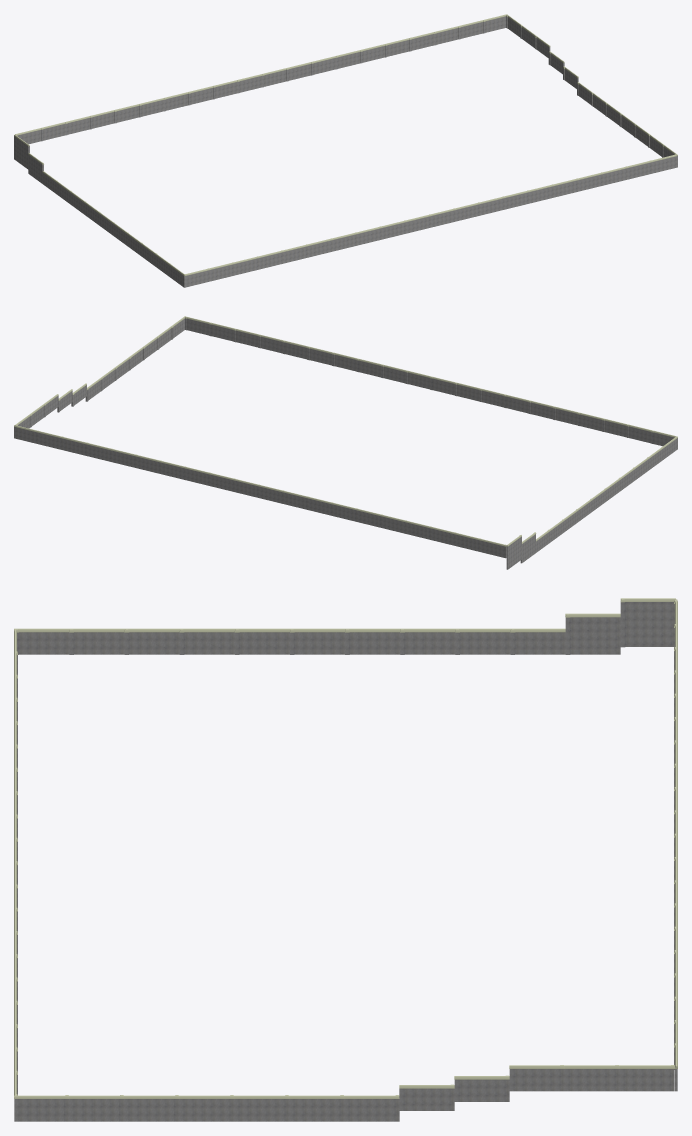
The model's file is SM_XD_weiqiang.FBX.
3 renders of one model, top to bottom at view 1: azimuth 30°, elevation 25°; view 2: azimuth 150°, elevation 25°; view 3: azimuth 270°, elevation 25°, orthographic. The views are drawn at different scales.
Visible parts, largest first — view 1: no part large enough to name; view 2: SM_XD_weiqiang031; view 3: SM_XD_weiqiang031, SM_XD_weiqiang030, SM_XD_weiqiang023, SM_XD_weiqiang029, SM_XD_weiqiang034, SM_XD_weiqiang021, SM_XD_weiqiang022, SM_XD_weiqiang024, SM_XD_weiqiang028, SM_XD_weiqiang032, SM_XD_weiqiang033, SM_XD_weiqiang035 (+12 smaller).
Part boxes in pixels (x1,y1,x2,y2): SM_XD_weiqiang031: [506, 535, 521, 569]; SM_XD_weiqiang031: [620, 598, 675, 647]; SM_XD_weiqiang030: [565, 613, 620, 654]; SM_XD_weiqiang023: [179, 628, 234, 654]; SM_XD_weiqiang029: [510, 628, 565, 654]; SM_XD_weiqiang034: [124, 1095, 179, 1121]; SM_XD_weiqiang021: [69, 628, 124, 654]; SM_XD_weiqiang022: [124, 628, 179, 654]; SM_XD_weiqiang024: [234, 628, 289, 654]; SM_XD_weiqiang028: [455, 628, 510, 654]; SM_XD_weiqiang032: [14, 1095, 69, 1121]; SM_XD_weiqiang033: [69, 1095, 124, 1121]; SM_XD_weiqiang035: [179, 1095, 234, 1121].
Bounding box in the file's own units: 12055 × 664 × 7225.
Materials: 2 (2 with a texture image).
